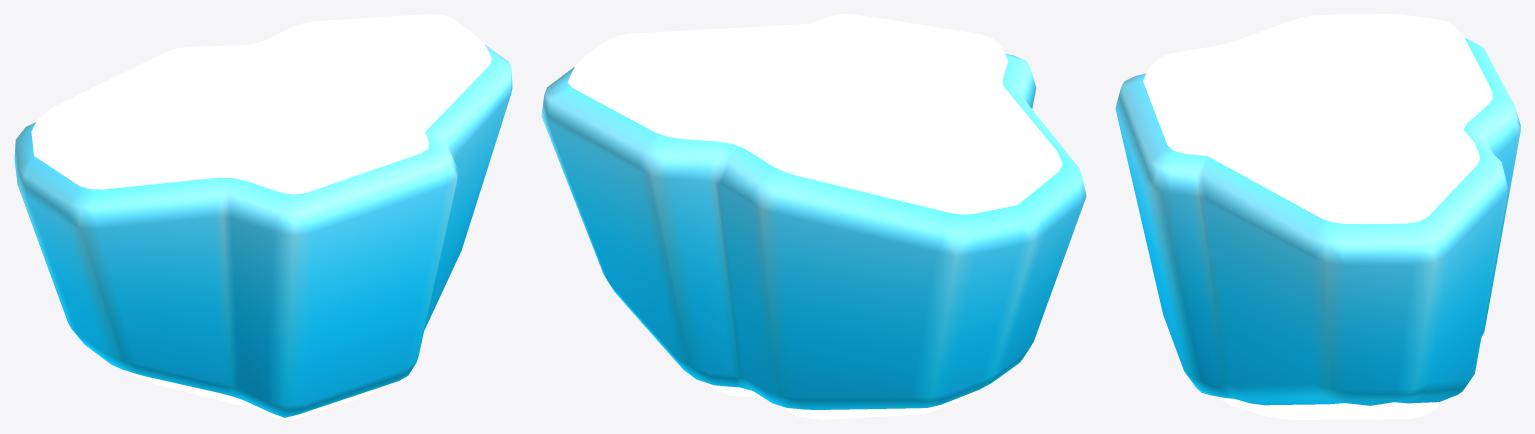
The model's file is ice_snow_004.glb.
3 renders of one model, left to right at view 1: azimuth 30°, elevation 25°; view 2: azimuth 150°, elevation 25°; view 3: azimuth 270°, elevation 25°, orthographic. The views are drawn at different scales.
Parts seen in each view (by area): view 1: ice_snow_004; view 2: ice_snow_004; view 3: ice_snow_004.
Boxes of the visible parts, x1,y1,x2,y2 form: ice_snow_004: [14, 14, 512, 419]; ice_snow_004: [541, 14, 1086, 419]; ice_snow_004: [1115, 14, 1520, 419].
Bounding box in the file's own units: 3.37 × 1.98 × 2.45.
Materials: 2 (2 with a texture image).
